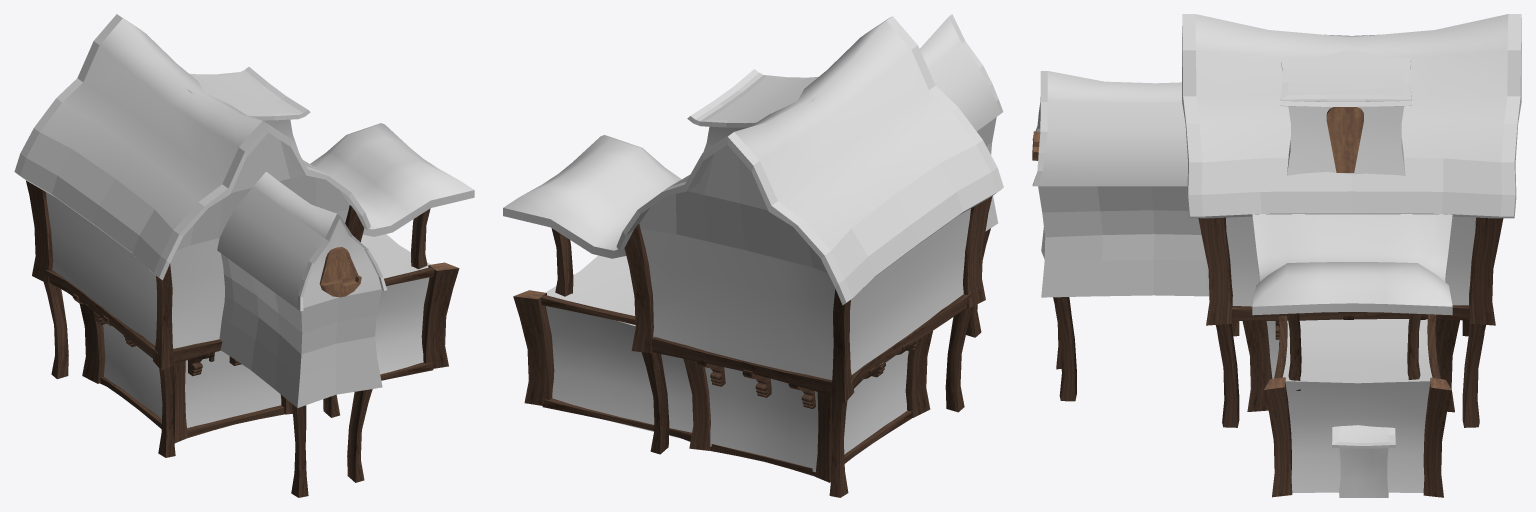
The model's file is Elite3.fbx.
The picture shows the model from 3 angles, left to right: view 1: azimuth 30°, elevation 25°; view 2: azimuth 150°, elevation 25°; view 3: azimuth 270°, elevation 25°; orthographic projection. The views are drawn at different scales.
Parts seen in each view (by area): view 1: Box1427, Object1812, Object1813, Box1470, Box1469, Object1828, Box1468, Box1466, Object1802, Object1791, Object1787, Object1795 (+11 smaller); view 2: Box1427, Object1812, Box1468, Object1828, Box1469, Box1470, Box1466, Object1800, Object1789, Object1790, Object1787, Object1791 (+13 smaller); view 3: Box1427, Box1469, Box1468, Object1813, Box1470, Box1466, Object1814, Object1812, Object1790, Object1785, Object1821, Object1800 (+13 smaller).
Boxes of the visible parts, left/top/right/bottom form: Box1427: left=14, top=14, right=370, bottom=280; Object1812: left=46, top=132, right=349, bottom=348; Object1813: left=219, top=219, right=382, bottom=407; Box1470: left=217, top=171, right=386, bottom=311; Box1469: left=310, top=123, right=474, bottom=236; Object1828: left=103, top=323, right=281, bottom=427; Box1468: left=360, top=234, right=430, bottom=374; Box1466: left=188, top=67, right=310, bottom=120; Object1802: left=421, top=262, right=459, bottom=368; Object1791: left=26, top=180, right=53, bottom=283; Object1787: left=153, top=263, right=174, bottom=370; Object1795: left=43, top=282, right=68, bottom=379; Box1427: left=616, top=16, right=1003, bottom=305; Object1812: left=639, top=145, right=970, bottom=379; Box1468: left=545, top=255, right=693, bottom=438; Object1828: left=705, top=350, right=908, bottom=472; Box1469: left=503, top=135, right=681, bottom=258; Box1470: left=919, top=14, right=1003, bottom=131; Box1466: left=687, top=69, right=818, bottom=127; Object1800: left=513, top=290, right=554, bottom=405; Object1789: left=651, top=337, right=831, bottom=395; Object1790: left=624, top=224, right=653, bottom=353; Object1787: left=963, top=196, right=992, bottom=308; Object1791: left=830, top=289, right=854, bottom=402; Box1427: left=1182, top=14, right=1521, bottom=218; Box1469: left=1252, top=214, right=1452, bottom=315; Box1468: left=1283, top=319, right=1432, bottom=492; Object1813: left=1038, top=186, right=1209, bottom=297; Box1470: left=1032, top=71, right=1187, bottom=186; Box1466: left=1280, top=36, right=1412, bottom=106; Object1814: left=1287, top=106, right=1405, bottom=175; Object1812: left=1226, top=216, right=1475, bottom=306; Object1790: left=1468, top=217, right=1503, bottom=325; Object1785: left=1198, top=217, right=1233, bottom=325; Object1821: left=1339, top=448, right=1388, bottom=497; Object1800: left=1423, top=377, right=1451, bottom=497.
Bounding box in the file's own units: 869 × 790 × 959.
